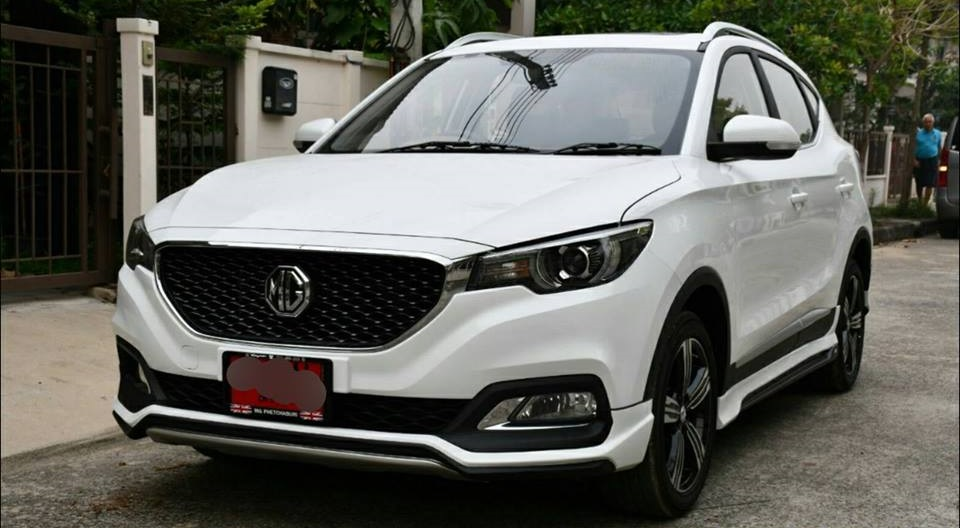pickup: (112, 31, 874, 517)
